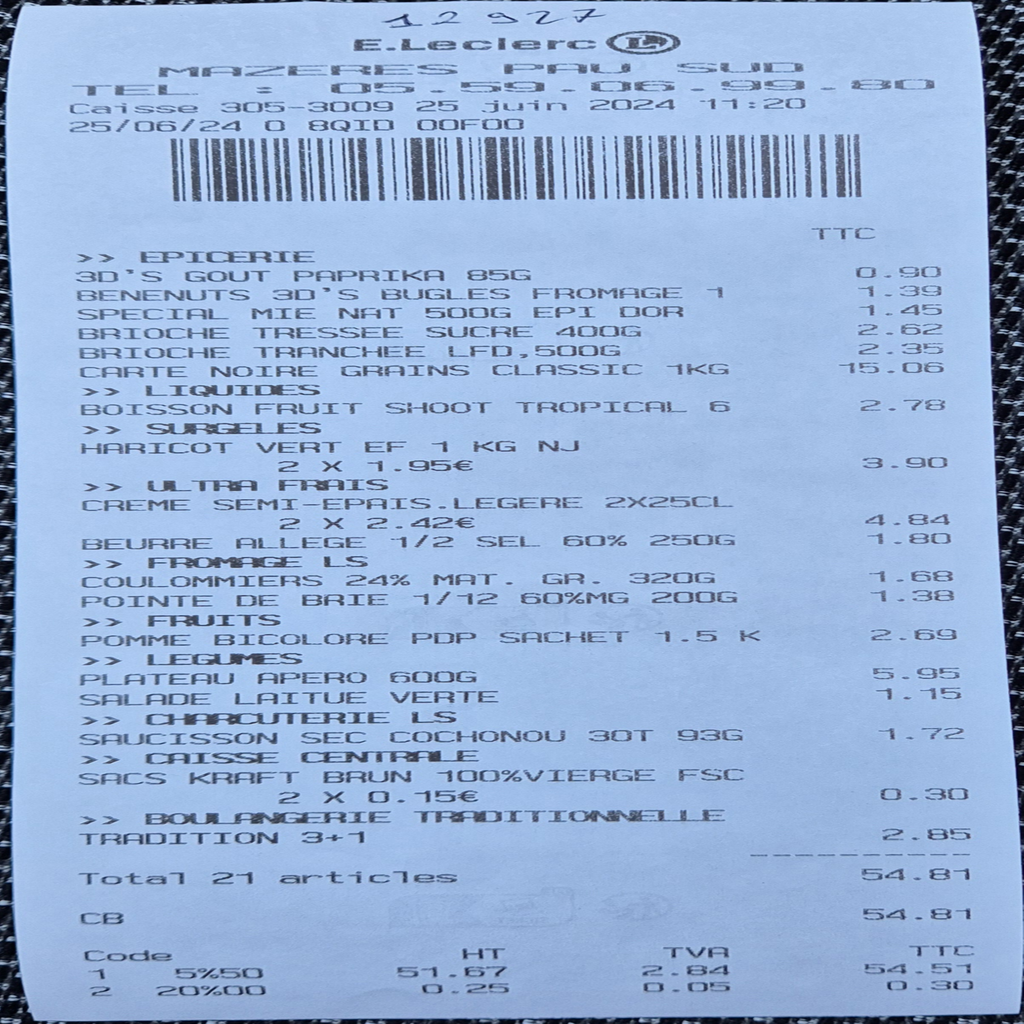recipt: (6, 0, 1024, 1020)
